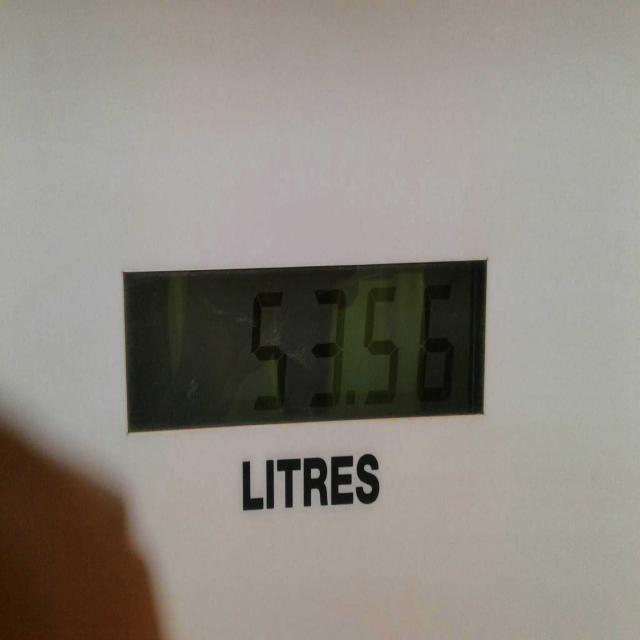.: (338, 385, 362, 421)
3: (302, 286, 350, 408)
5: (240, 285, 295, 416), (359, 284, 406, 411)
6: (408, 278, 459, 407)
